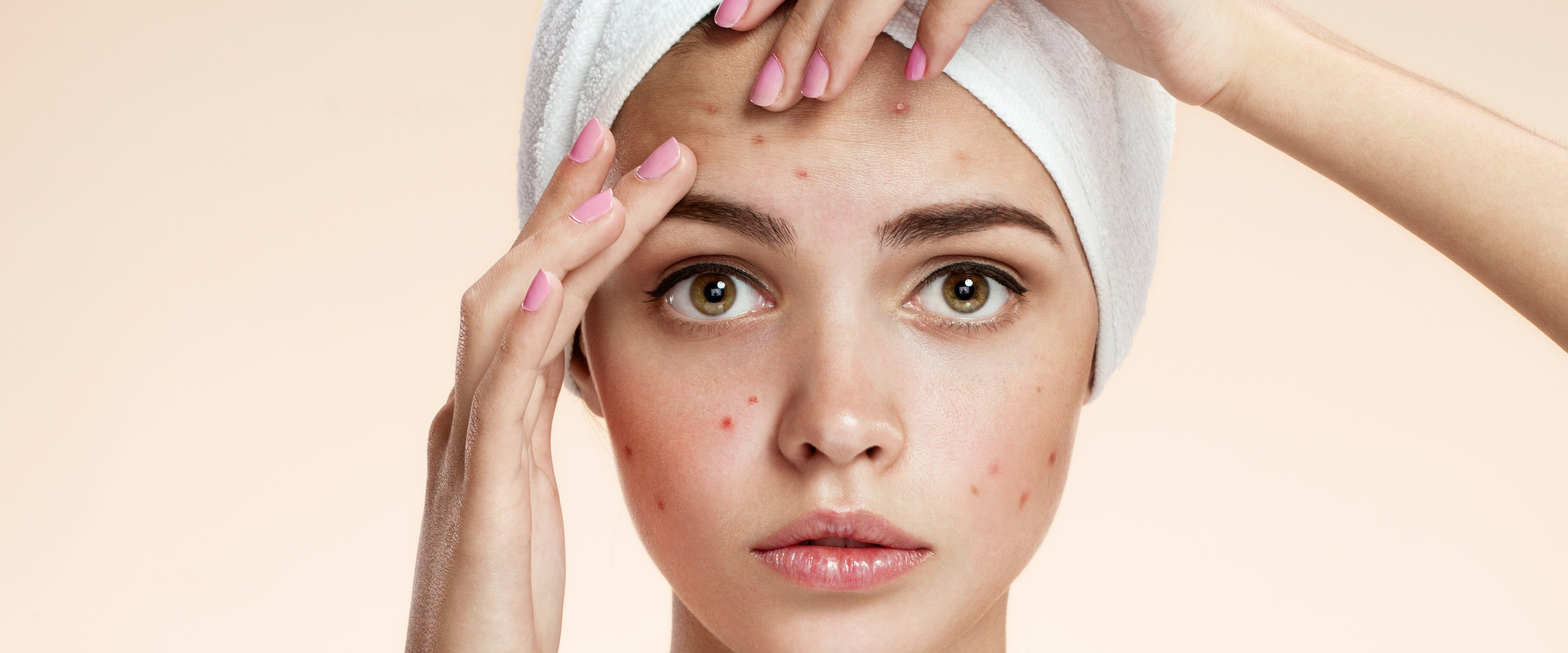Acne: (632, 96, 1089, 543)
